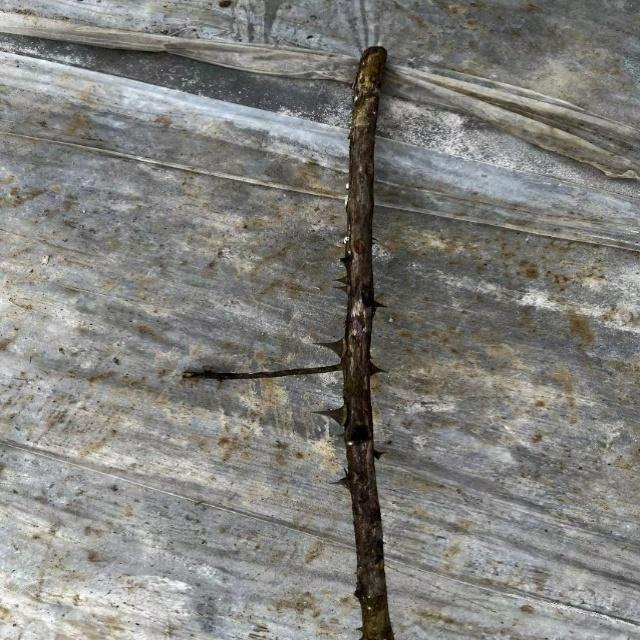branch: (338, 46, 394, 640)
